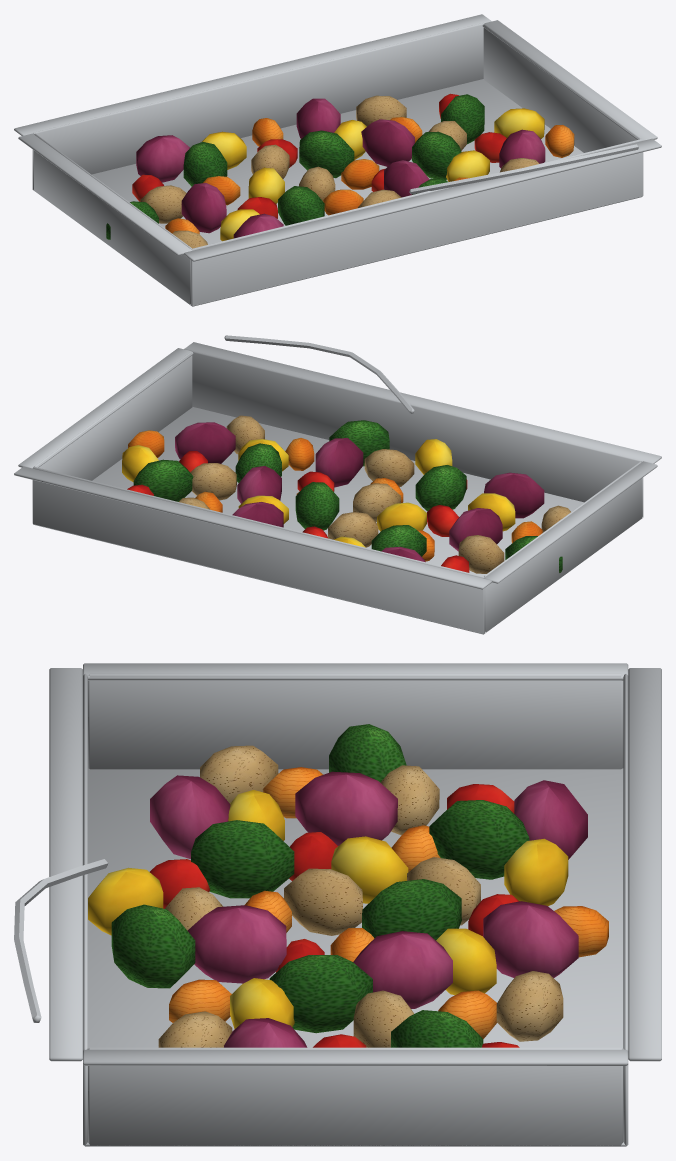
File: tray_hotel_pan_roast_veg.glb
3 views of the same model, one above another, from view 1: azimuth 30°, elevation 25°; view 2: azimuth 150°, elevation 25°; view 3: azimuth 270°, elevation 25° (orthographic). The views are drawn at different scales.
Parts seen in each view (by area): view 1: tray_hotel_pan_roast_veg; view 2: tray_hotel_pan_roast_veg; view 3: tray_hotel_pan_roast_veg.
Part boxes in pixels (bbox=[...]): tray_hotel_pan_roast_veg: bbox=[14, 14, 661, 306]; tray_hotel_pan_roast_veg: bbox=[14, 335, 661, 634]; tray_hotel_pan_roast_veg: bbox=[14, 663, 661, 1146].
Size of the model in its own units: 0.563 by 0.0935 by 0.386.
7 materials, 6 textured.
